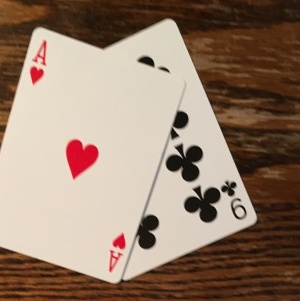card: (124, 16, 257, 285)
